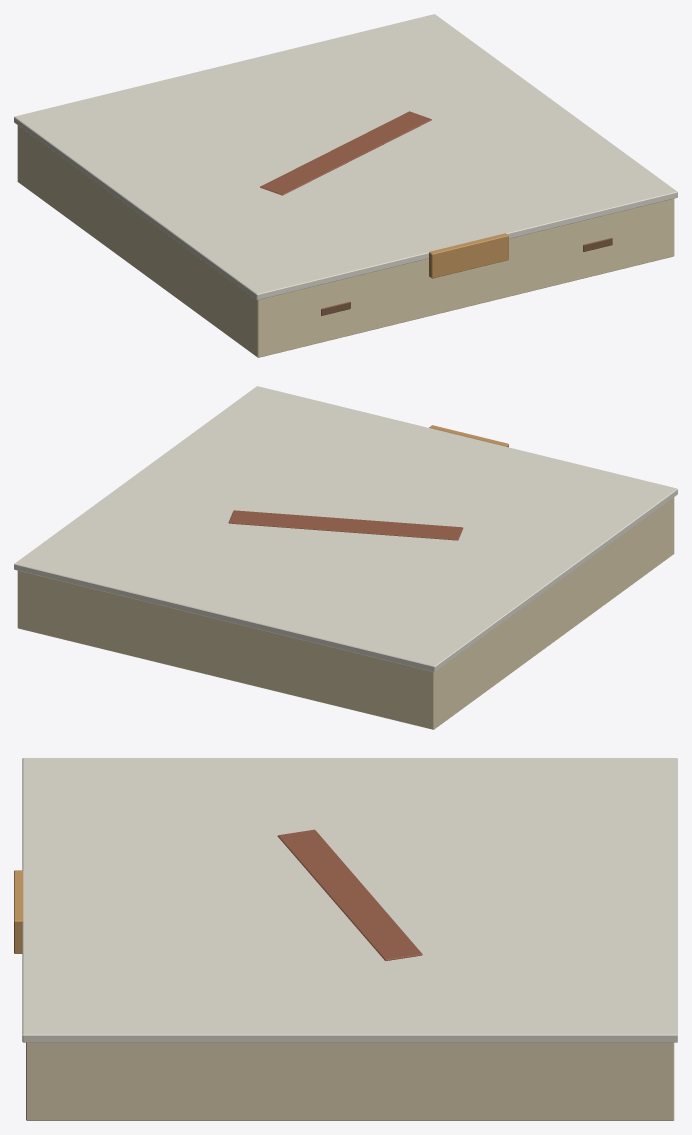
Rendered from b16_closed_pizza_box.glb.
3 views of the same model, one above another, from view 1: azimuth 30°, elevation 25°; view 2: azimuth 150°, elevation 25°; view 3: azimuth 270°, elevation 25° (orthographic). The views are drawn at different scales.
Parts seen in each view (by area): view 1: b16_closed_pizza_box; view 2: b16_closed_pizza_box; view 3: b16_closed_pizza_box.
Boxes of the visible parts, bbox=[...] form: b16_closed_pizza_box: bbox=[14, 14, 677, 357]; b16_closed_pizza_box: bbox=[14, 386, 677, 729]; b16_closed_pizza_box: bbox=[14, 758, 677, 1120].
Size of the model in its own units: 0.354 by 0.0535 by 0.3585.
